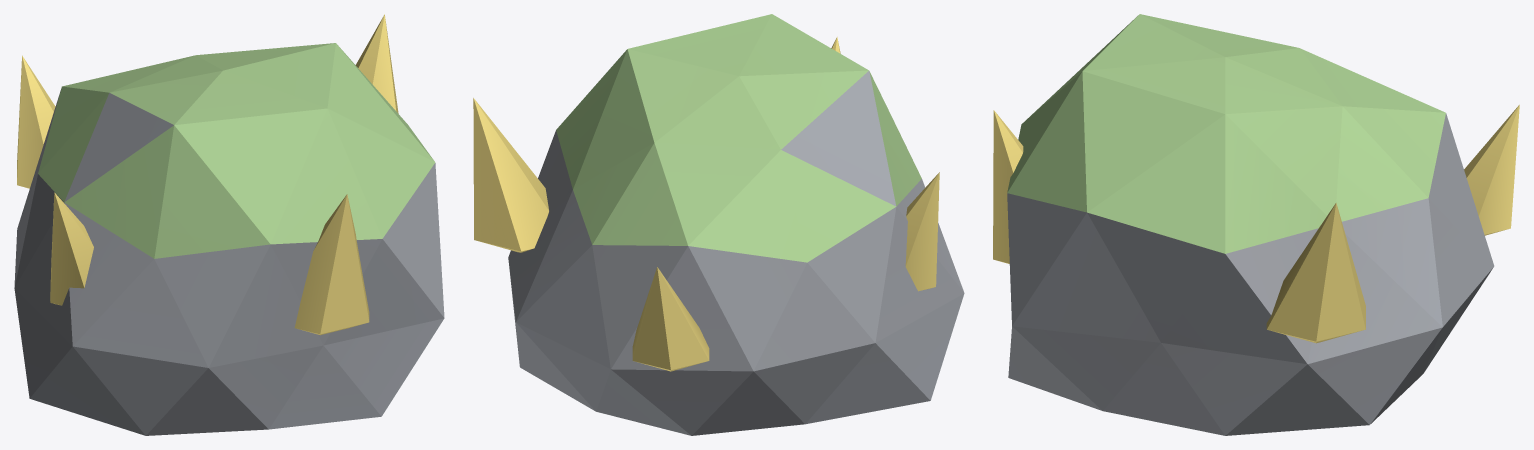
Rendered from VRock_B.fbx.
The picture shows the model from 3 angles, left to right: view 1: azimuth 30°, elevation 25°; view 2: azimuth 150°, elevation 25°; view 3: azimuth 270°, elevation 25°; orthographic projection. The views are drawn at different scales.
Parts seen in each view (by area): view 1: VRock_B; view 2: VRock_B; view 3: VRock_B.
Boxes of the visible parts, bbox=[...] form: VRock_B: bbox=[14, 14, 444, 435]; VRock_B: bbox=[473, 14, 964, 435]; VRock_B: bbox=[993, 14, 1519, 435].
Size of the model in its own units: 1.19 by 0.8102 by 1.25.
